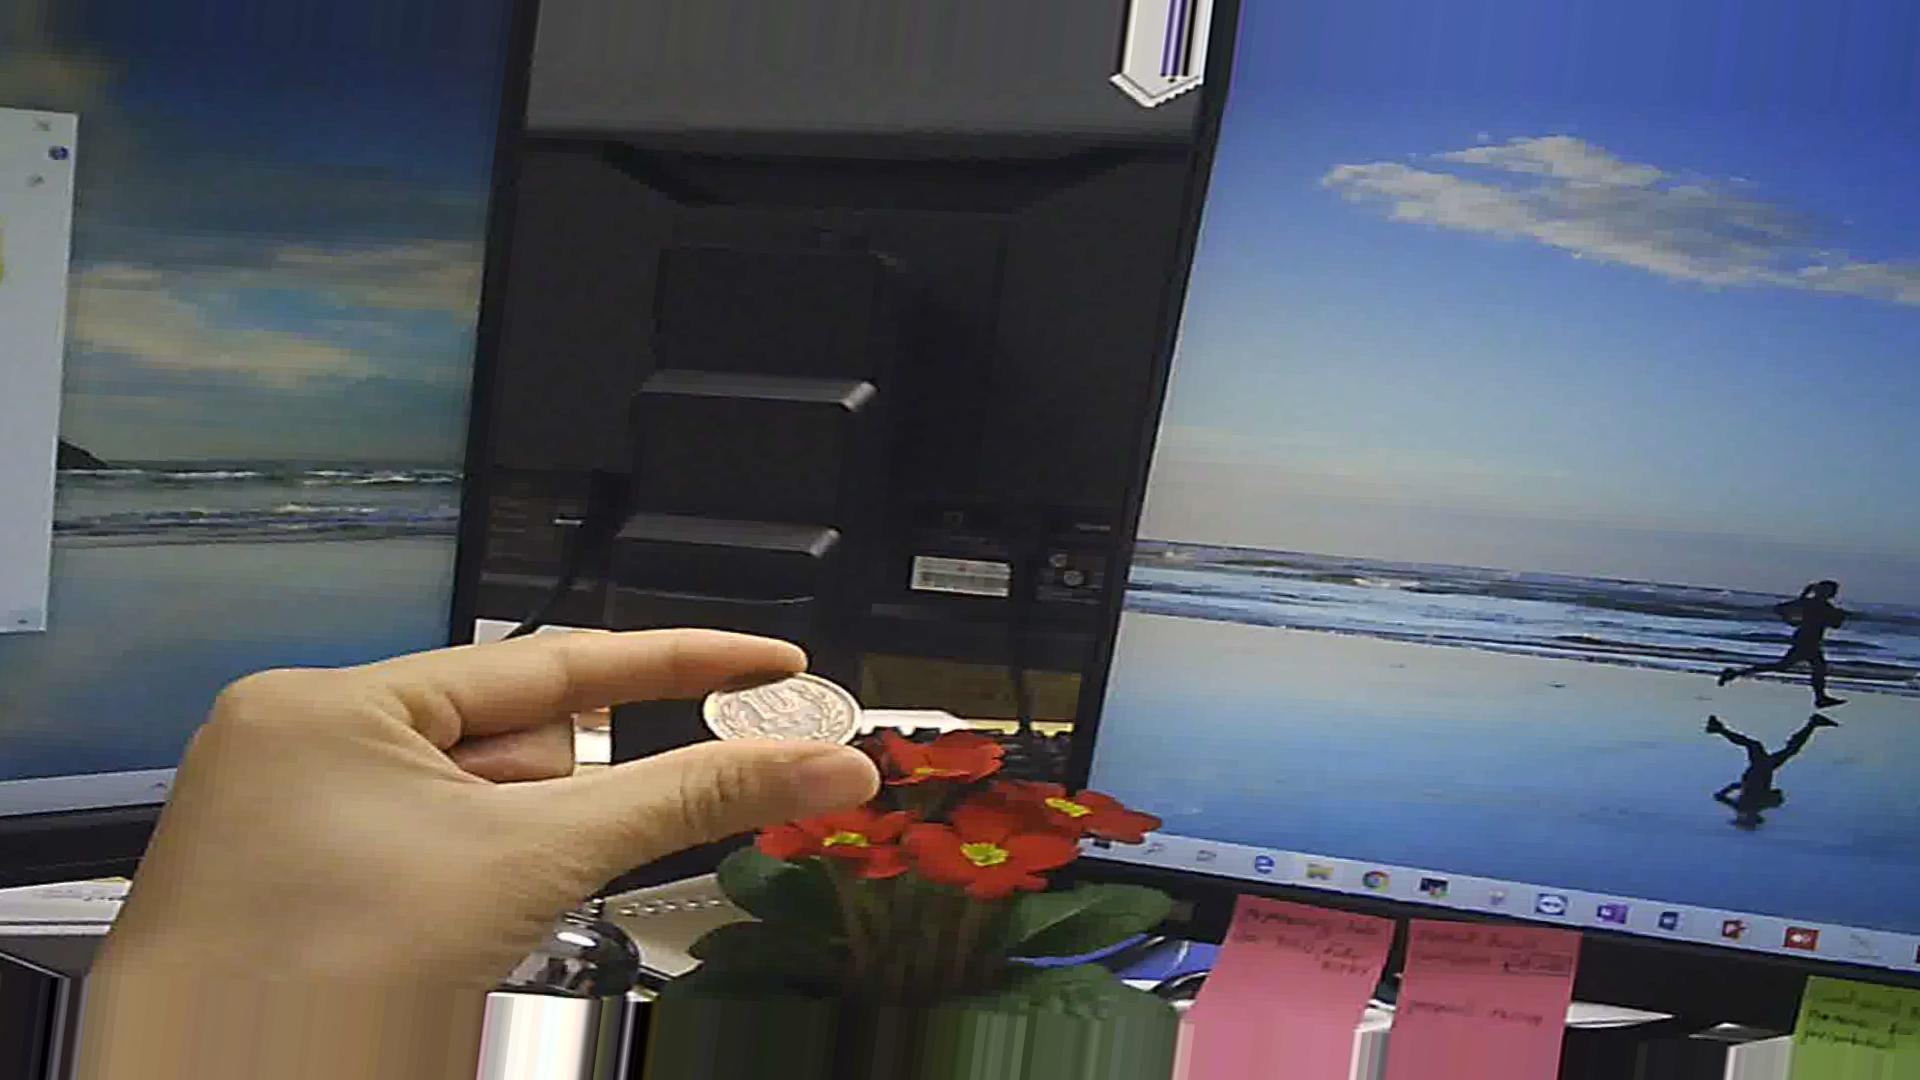10 Yen: (692, 647, 884, 765)
